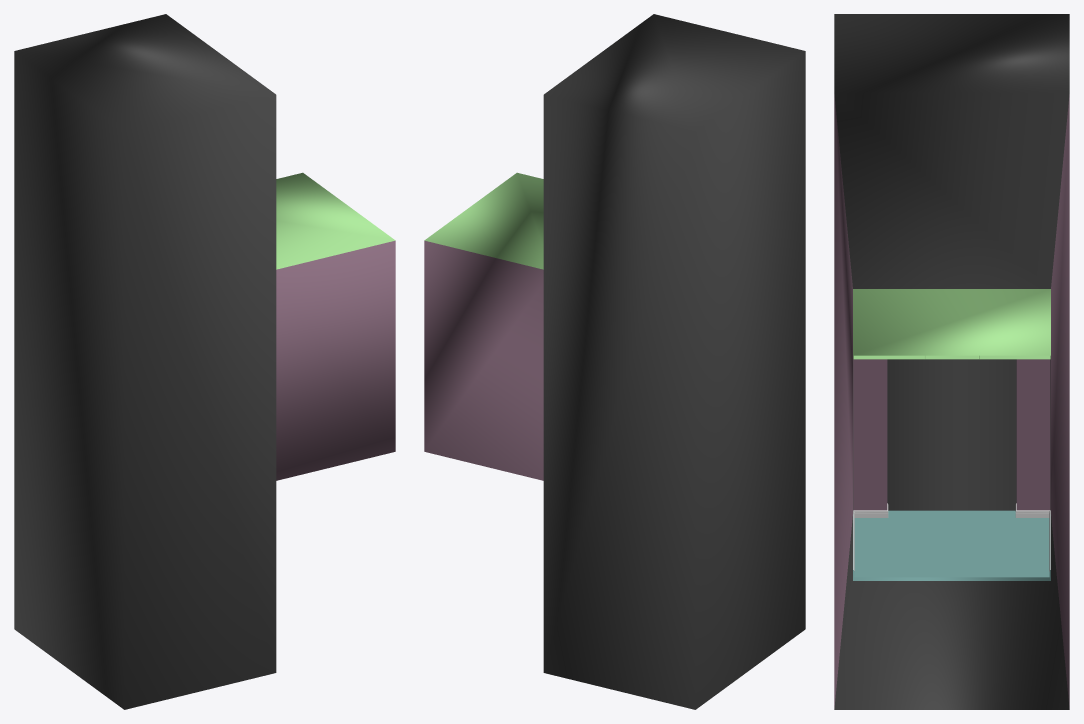
The model's file is Lvl_0_Corridor_endpiece_w_light.fbx.
3 views of the same model, side by side, from view 1: azimuth 30°, elevation 25°; view 2: azimuth 150°, elevation 25°; view 3: azimuth 270°, elevation 25° (orthographic). The views are drawn at different scales.
Parts seen in each view (by area): view 1: Corridor_wall; view 2: Corridor_wall; view 3: Corridor_wall, Corridor_floor, Corridor_ceiling.
Part boxes in pixels (bbox=[...]): Corridor_wall: bbox=[14, 14, 395, 709]; Corridor_wall: bbox=[424, 14, 805, 709]; Corridor_wall: bbox=[834, 14, 1069, 709]; Corridor_floor: bbox=[854, 510, 1049, 577]; Corridor_ceiling: bbox=[853, 355, 1050, 359].
Bounding box in the file's own units: 4.3 × 8.49 × 2.93.
